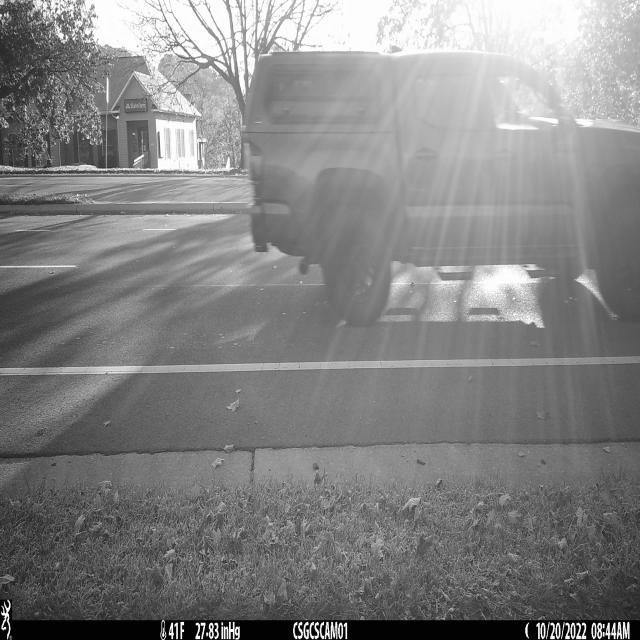Pickup: (242, 50, 640, 328)
